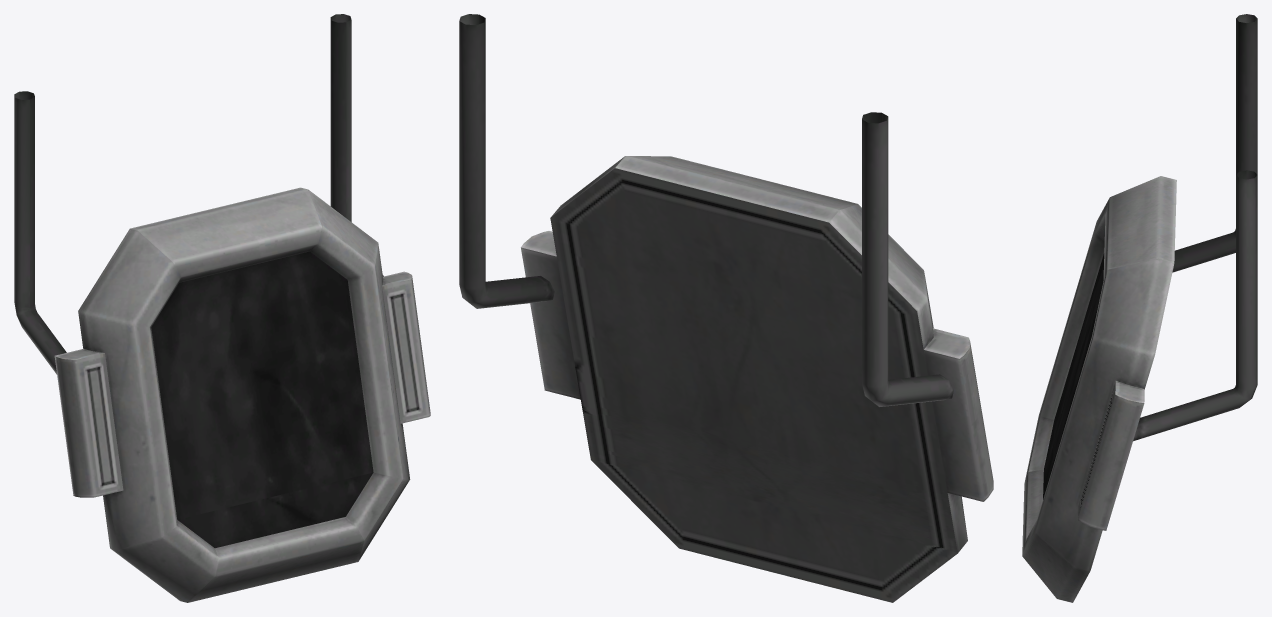
The model's file is theta_panel_lightswitch.dae.
3 views of the same model, side by side, from view 1: azimuth 30°, elevation 25°; view 2: azimuth 150°, elevation 25°; view 3: azimuth 270°, elevation 25° (orthographic). The views are drawn at different scales.
Visible parts, largest first — view 1: light_switch; view 2: light_switch; view 3: light_switch.
Boxes of the visible parts, x1,y1,x2,y2 form: light_switch: [14, 14, 430, 602]; light_switch: [459, 14, 993, 602]; light_switch: [1022, 14, 1257, 602].
Bounding box in the file's own units: 0.3545 × 0.4474 × 0.2048.
